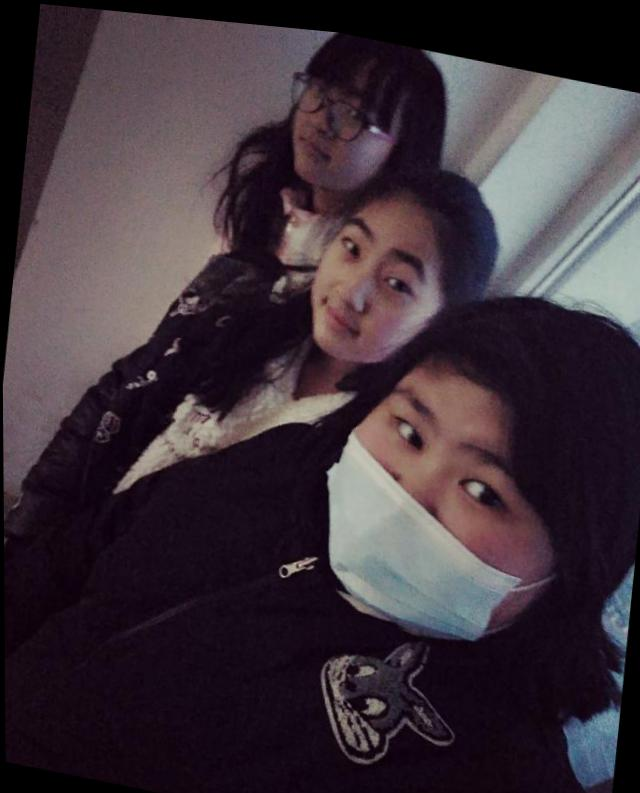NONE: (306, 201, 439, 363), (289, 62, 404, 194)
WRONG: (304, 354, 587, 657)
